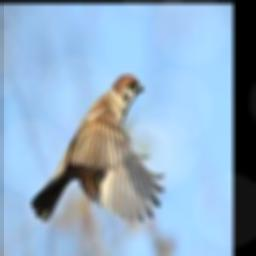Sparrow: (32, 74, 165, 224)
